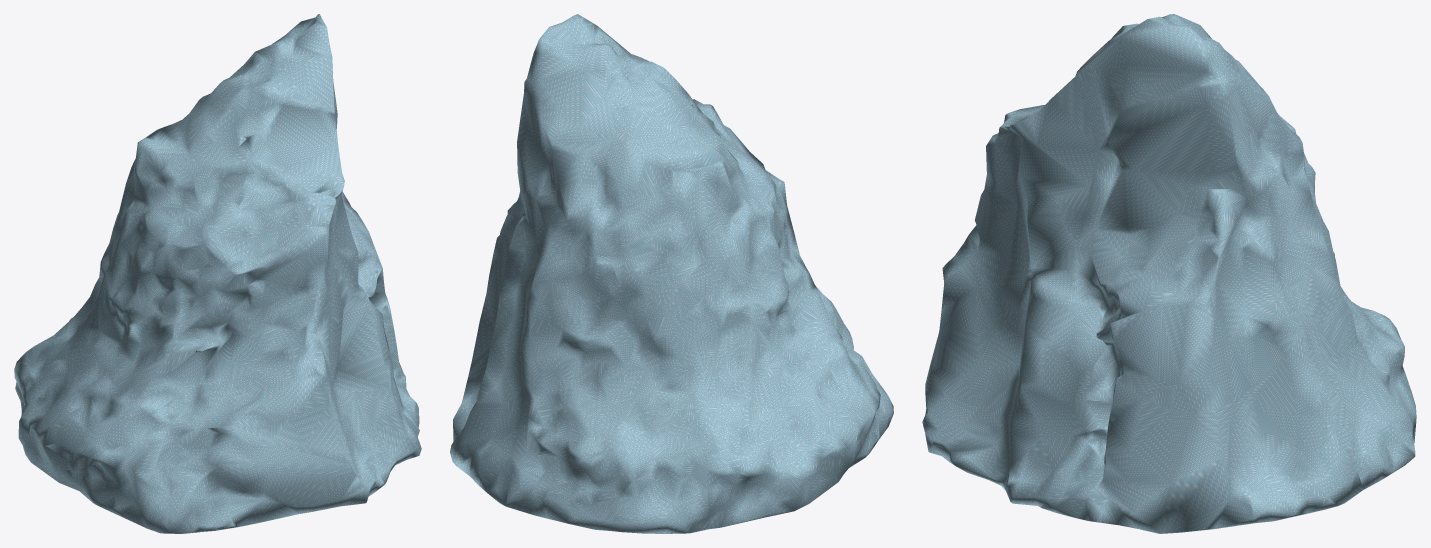
File: hlg-serac.glb
3 renders of one model, left to right at view 1: azimuth 30°, elevation 25°; view 2: azimuth 150°, elevation 25°; view 3: azimuth 270°, elevation 25°, orthographic. The views are drawn at different scales.
Visible parts, largest first — view 1: geometry_0; view 2: geometry_0; view 3: geometry_0.
Part boxes in pixels (x1,y1,x2,y2): geometry_0: (14,14,421,533); geometry_0: (450,14,893,533); geometry_0: (922,14,1416,533).
Bounding box in the file's own units: 12424 × 13103 × 12505.
Materials: 1 (1 with a texture image).
